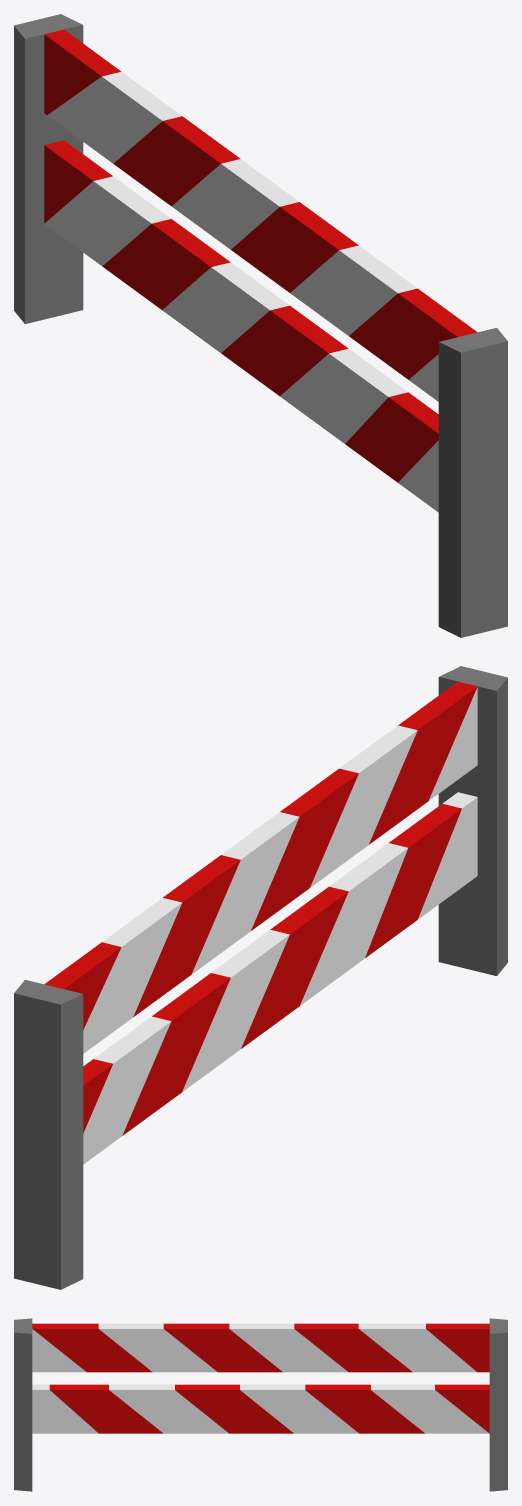
The model's file is barrier.fbx.
The picture shows the model from 3 angles, top to bottom: view 1: azimuth 30°, elevation 25°; view 2: azimuth 150°, elevation 25°; view 3: azimuth 270°, elevation 25°; orthographic projection. The views are drawn at different scales.
Parts seen in each view (by area): view 1: Barrier; view 2: Barrier; view 3: Barrier.
Part boxes in pixels (x1=…): Barrier: x1=14, y1=14, x2=507, y2=637; Barrier: x1=14, y1=666, x2=507, y2=1289; Barrier: x1=14, y1=1318, x2=507, y2=1491.
Bounding box in the file's own units: 42.71 × 200 × 569.
